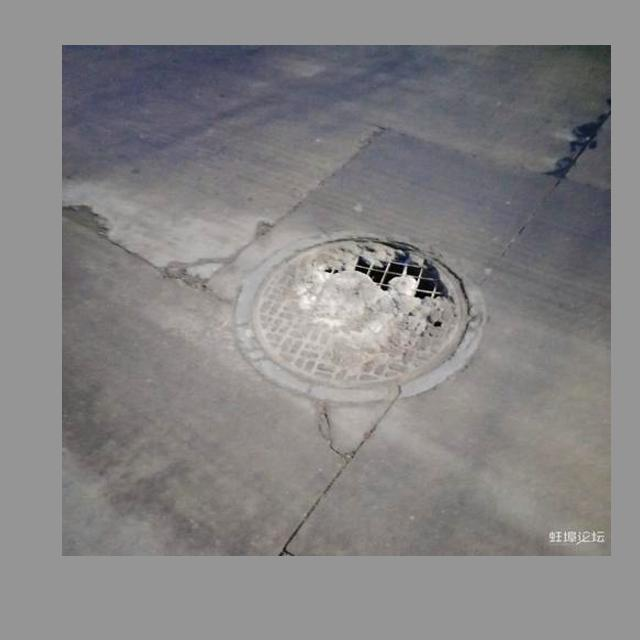broke: (226, 222, 490, 399)
